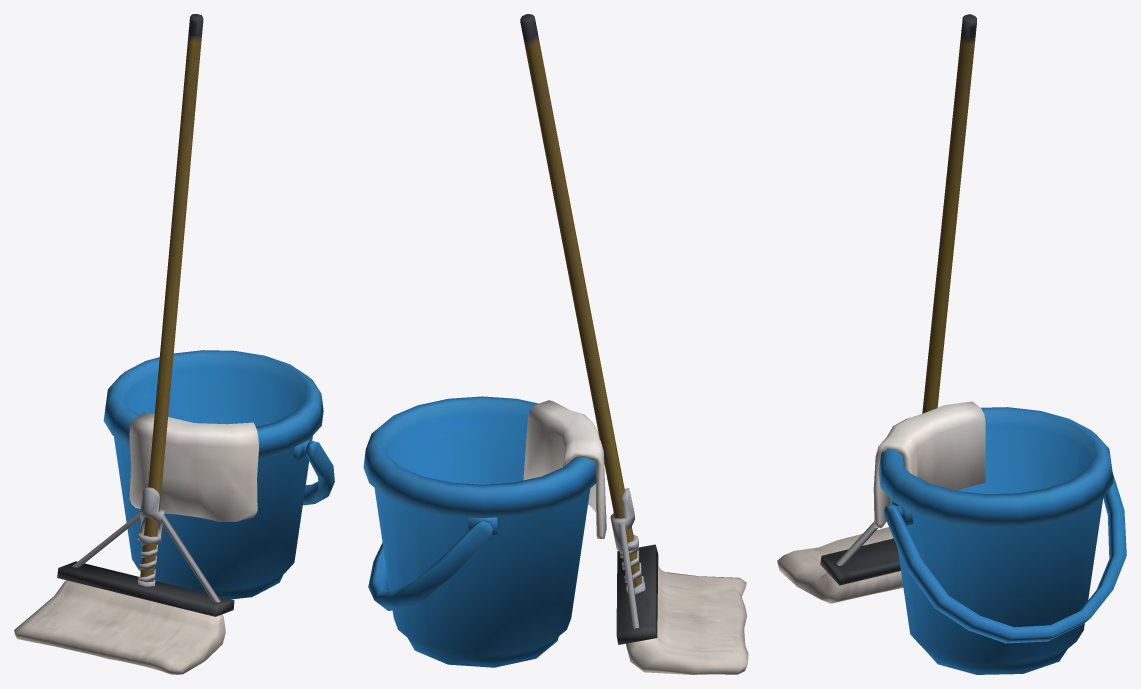
3 views of the same model, side by side, from view 1: azimuth 30°, elevation 25°; view 2: azimuth 150°, elevation 25°; view 3: azimuth 270°, elevation 25° (orthographic). The views are drawn at different scales.
Size of the model in its own units: 9.68 by 16.58 by 8.57.
1 material, 1 textured.
